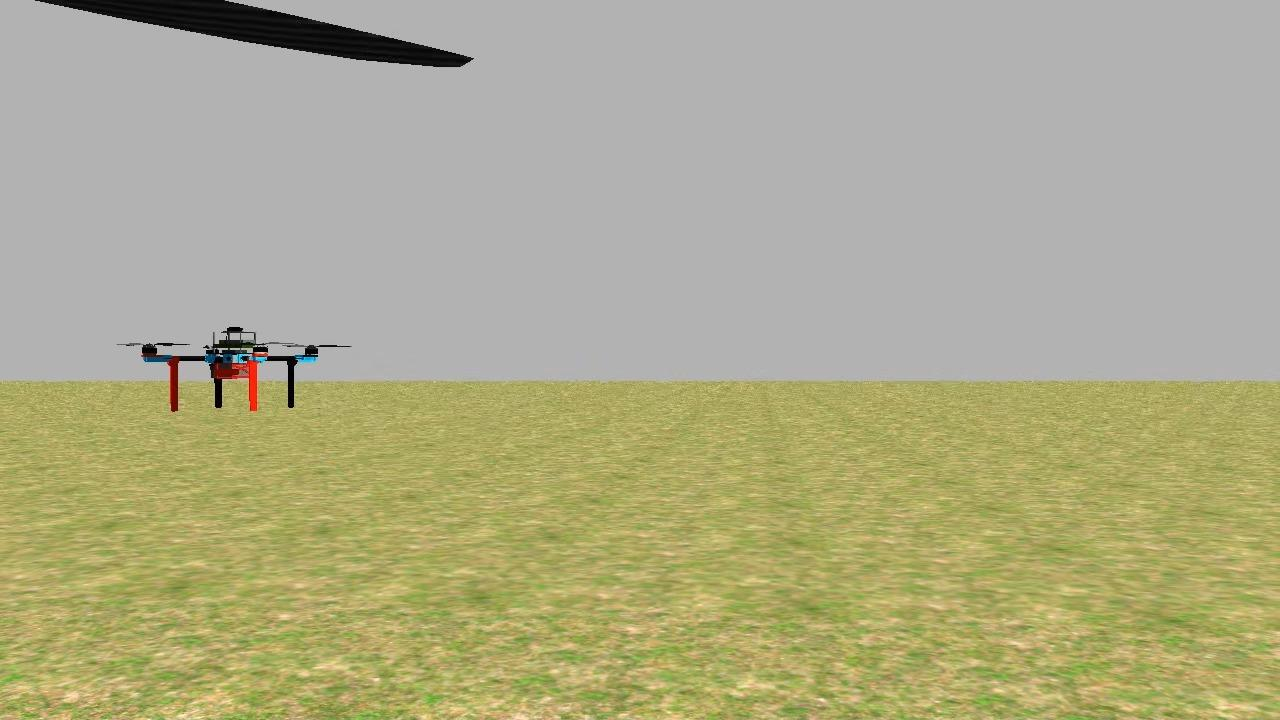UAV: (132, 304, 320, 433)
